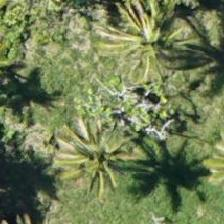coconut_tree: (48, 110, 138, 200), (87, 0, 177, 83)
